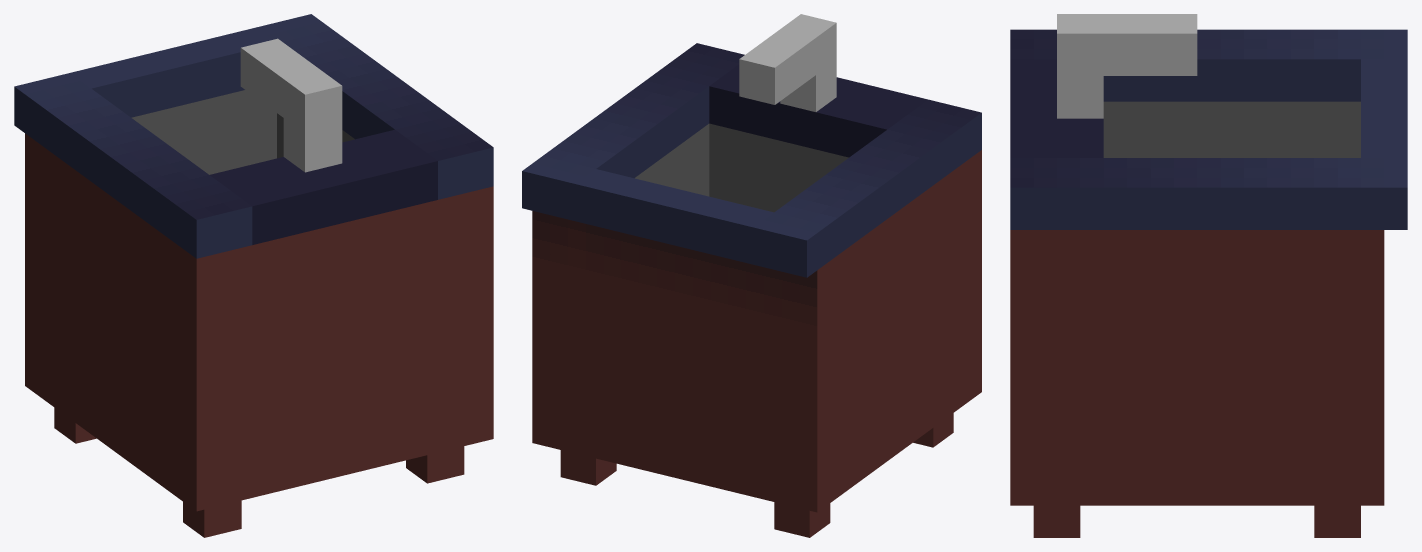
The model's file is KitchenSink.fbx.
The picture shows the model from 3 angles, left to right: view 1: azimuth 30°, elevation 25°; view 2: azimuth 150°, elevation 25°; view 3: azimuth 270°, elevation 25°; orthographic projection. The views are drawn at different scales.
Visible parts, largest first — view 1: cube_4, cube_6, cube_11, cube_9, cube_7, cube_5, cube_8, cube_10, cube_13, cube_12, cube_14, cube_3 (+2 smaller); view 2: cube_4, cube_6, cube_11, cube_5, cube_10, cube_8, cube_7, cube_9, cube_12, cube_14, cube_13, cube_2 (+2 smaller); view 3: cube_4, cube_12, cube_5, cube_6, cube_11, cube_7, cube_14, cube_13, cube_8, cube_1, cube.
Boxes of the visible parts, x1,y1,x2,y2 form: cube_4: (25, 211, 493, 511); cube_6: (14, 73, 252, 258); cube_11: (25, 133, 252, 336); cube_9: (252, 200, 437, 322); cube_7: (210, 129, 437, 244); cube_5: (256, 14, 493, 199); cube_8: (70, 27, 271, 117); cube_10: (131, 90, 276, 174); cube_13: (283, 70, 342, 172); cube_12: (277, 113, 493, 277); cube_14: (240, 38, 320, 117); cube_3: (183, 500, 241, 537); cube_4: (532, 224, 981, 512); cube_6: (753, 99, 981, 277); cube_11: (764, 150, 981, 344); cube_5: (522, 43, 744, 221); cube_10: (586, 224, 763, 331); cube_8: (575, 169, 773, 264); cube_7: (709, 64, 927, 157); cube_9: (709, 123, 848, 212); cube_12: (532, 124, 709, 288); cube_14: (739, 29, 815, 104); cube_13: (780, 14, 836, 111); cube_2: (774, 502, 830, 537); cube_4: (1010, 314, 1384, 505); cube_12: (1010, 230, 1384, 314); cube_5: (1010, 158, 1407, 229); cube_6: (1010, 29, 1407, 101); cube_11: (1103, 101, 1360, 157); cube_7: (1010, 59, 1103, 157); cube_14: (1103, 14, 1197, 75); cube_13: (1057, 14, 1103, 118); cube_8: (1361, 59, 1407, 157); cube_1: (1033, 505, 1080, 537); cube: (1314, 505, 1360, 537).
Bounding box in the file's own units: 100 × 131 × 106.
Materials: 1 (1 with a texture image).
